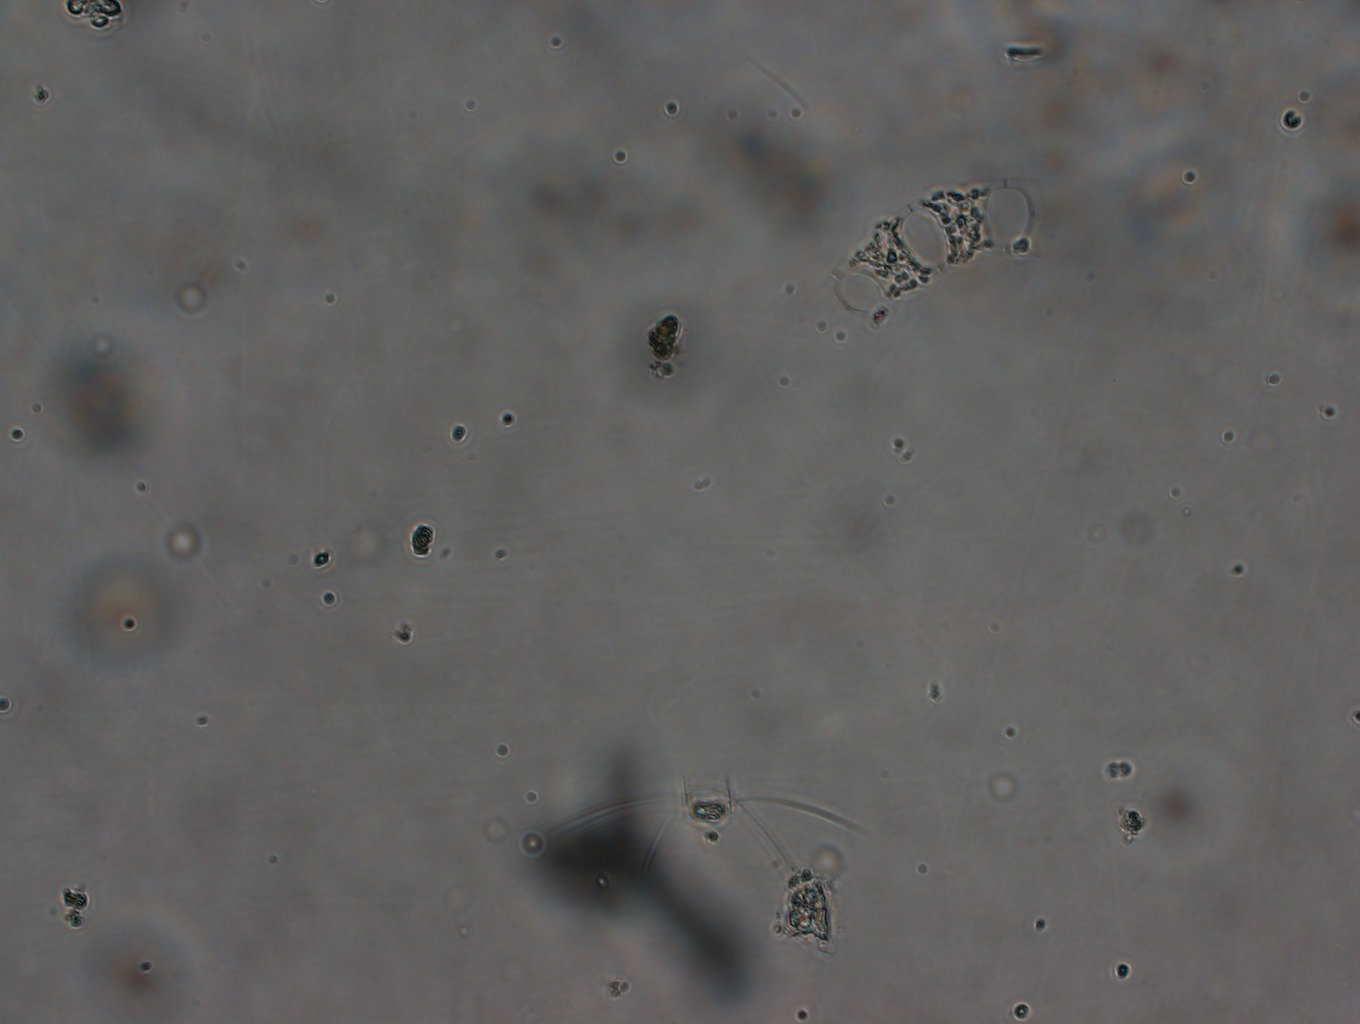chaetoceros: (532, 766, 865, 876)
eucampia: (805, 168, 1049, 347)
